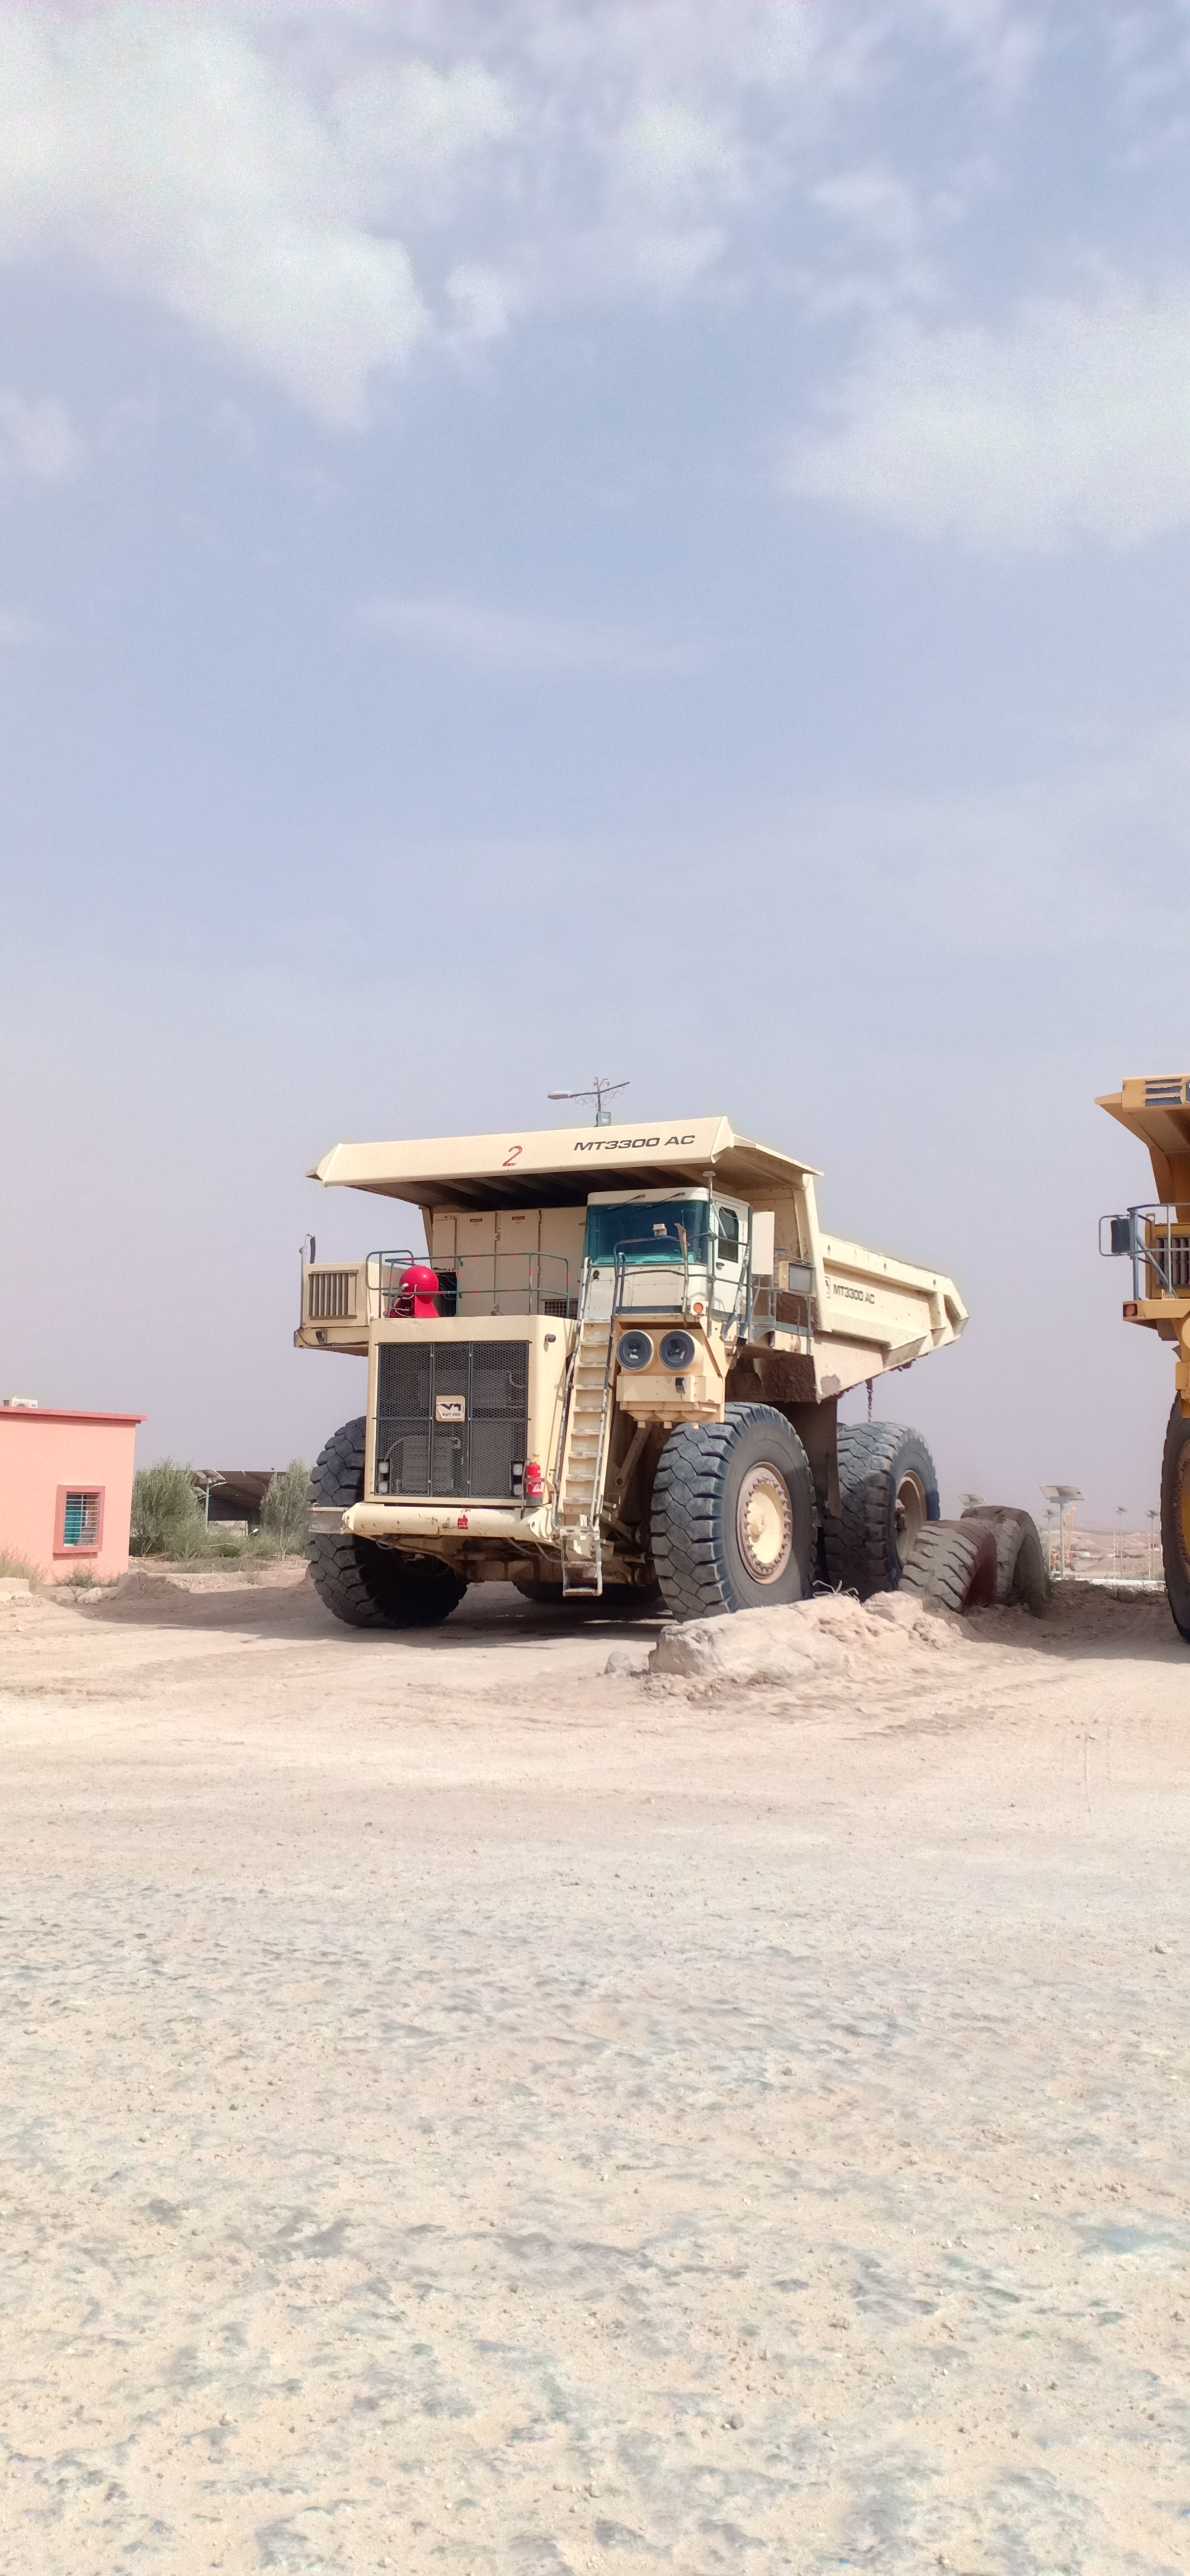camion: (289, 1127, 952, 1656)
